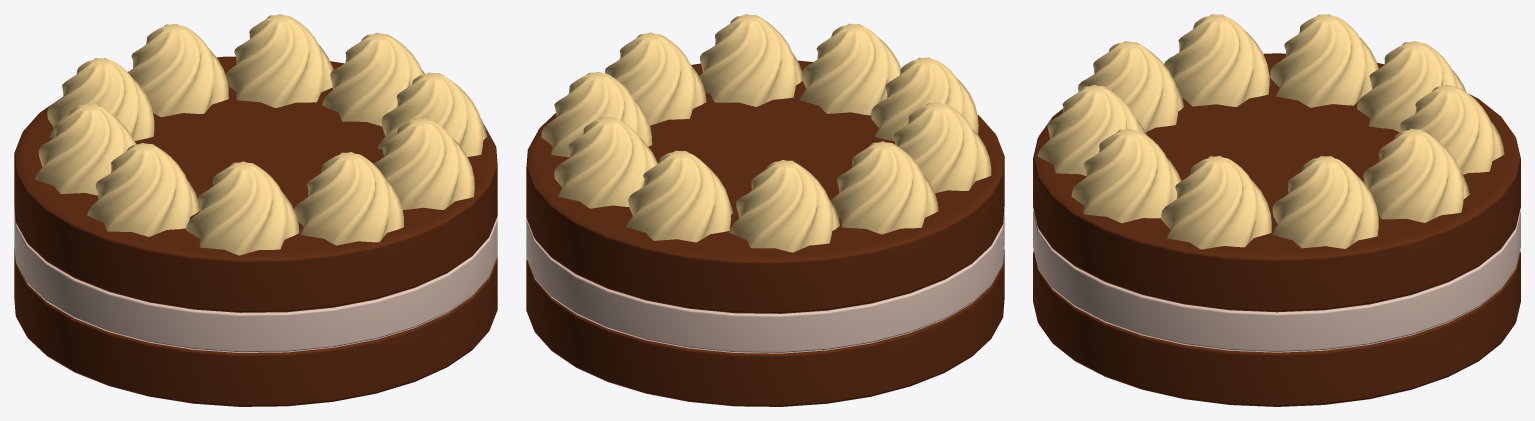
The model's file is SM_chocolate_cake.fbx.
3 views of the same model, side by side, from view 1: azimuth 30°, elevation 25°; view 2: azimuth 150°, elevation 25°; view 3: azimuth 270°, elevation 25° (orthographic).
Parts seen in each view (by area): view 1: SM_chocolate_cake; view 2: SM_chocolate_cake; view 3: SM_chocolate_cake.
Part boxes in pixels (bbox=[...]): SM_chocolate_cake: bbox=[14, 14, 497, 406]; SM_chocolate_cake: bbox=[526, 14, 1004, 406]; SM_chocolate_cake: bbox=[1033, 14, 1520, 406].
Bounding box in the file's own units: 31.53 × 15.55 × 31.53.
Materials: 1 (1 with a texture image).
